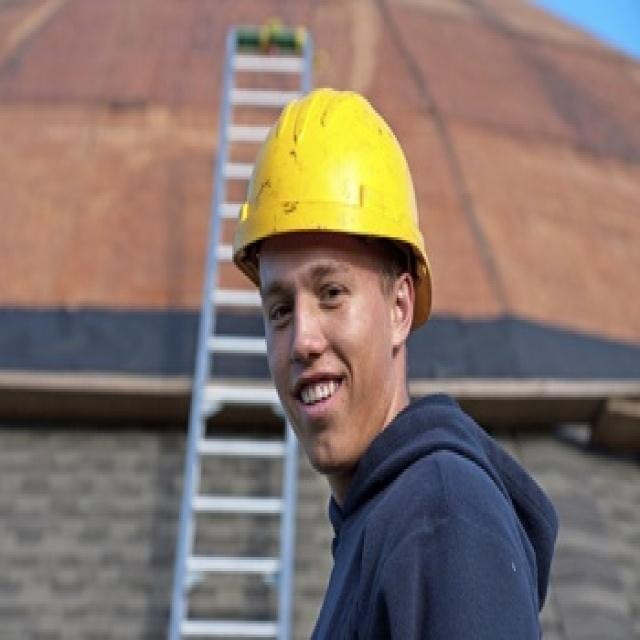helmet: (236, 115, 432, 622)
